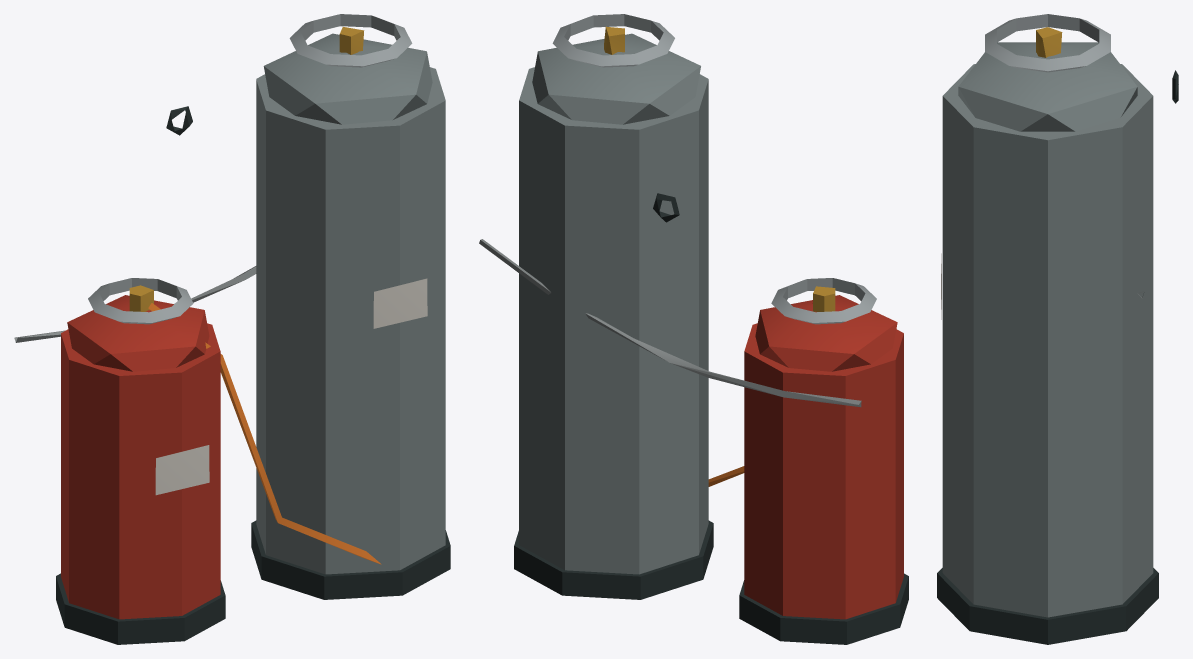
Rendered from binh_gas.glb.
3 views of the same model, side by side, from view 1: azimuth 30°, elevation 25°; view 2: azimuth 150°, elevation 25°; view 3: azimuth 270°, elevation 25° (orthographic). The views are drawn at different scales.
Parts seen in each view (by area): view 1: binh_gas; view 2: binh_gas; view 3: binh_gas.
Part boxes in pixels (x1,y1,x2,y2): binh_gas: (14, 14, 450, 644); binh_gas: (479, 14, 908, 644); binh_gas: (937, 14, 1178, 644).
Bounding box in the file's own units: 0.8544 × 1.12 × 0.436.
